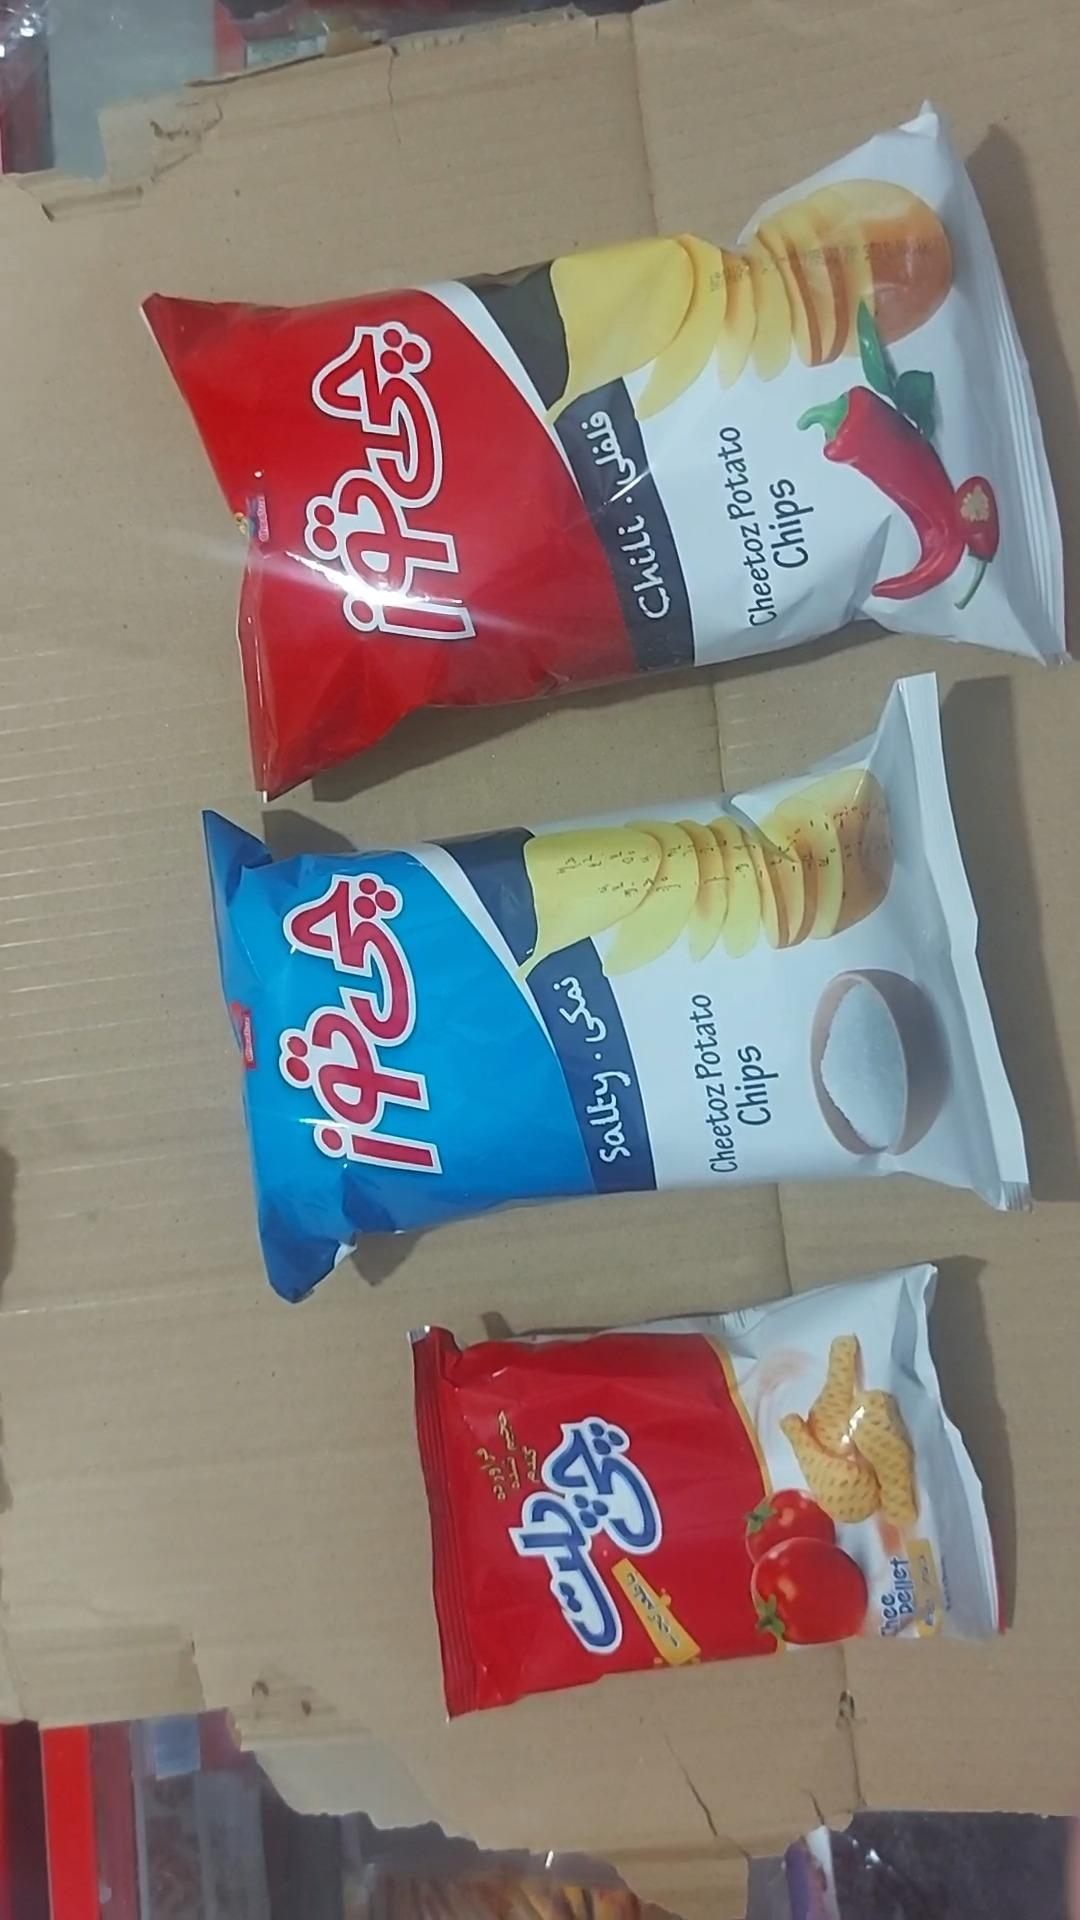Chee pellet ketchup: (409, 1265, 1005, 1721)
Cheetoz chili chips: (142, 105, 1065, 800)
Cheetoz salty chips: (202, 674, 1033, 1305)
